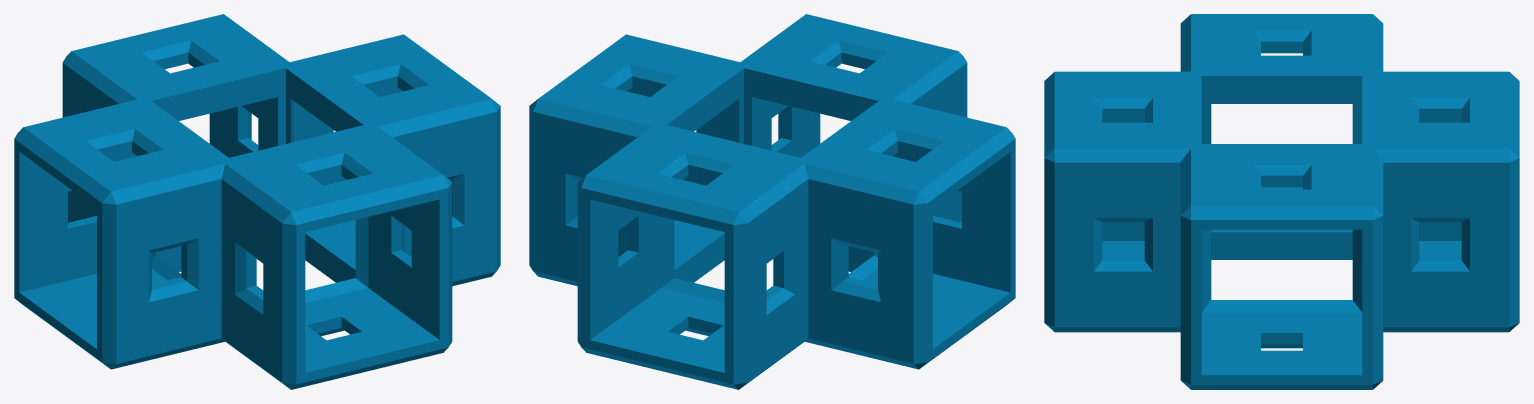
The model's file is connector-2d4w-pt-y.glb.
The picture shows the model from 3 angles, left to right: view 1: azimuth 30°, elevation 25°; view 2: azimuth 150°, elevation 25°; view 3: azimuth 270°, elevation 25°; orthographic projection. The views are drawn at different scales.
Parts seen in each view (by area): view 1: connector-2d4w-pt-y.stl; view 2: connector-2d4w-pt-y.stl; view 3: connector-2d4w-pt-y.stl.
Boxes of the visible parts, x1,y1,x2,y2 form: connector-2d4w-pt-y.stl: [14, 14, 500, 389]; connector-2d4w-pt-y.stl: [529, 14, 1015, 389]; connector-2d4w-pt-y.stl: [1044, 14, 1519, 389].
Size of the model in its own units: 45 by 19.2 by 45.
